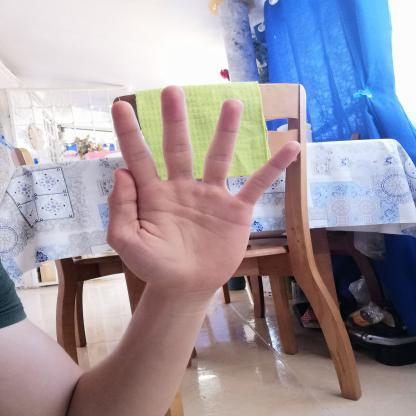SHEEN: (79, 77, 311, 309)
